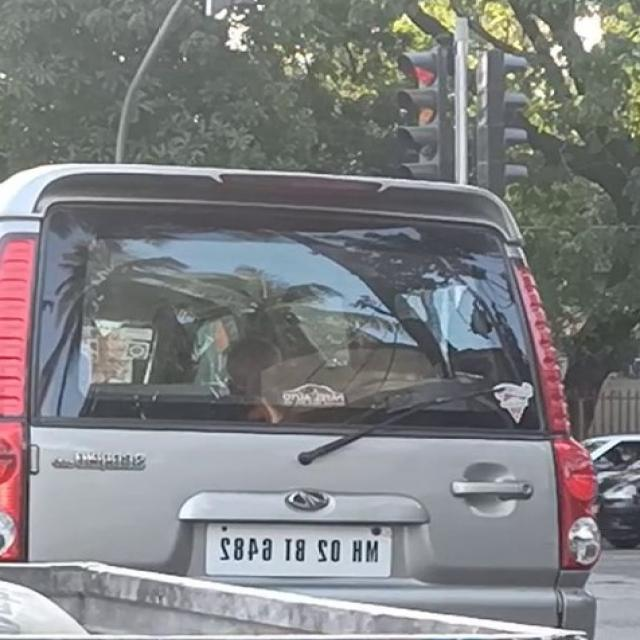license_plate: (195, 520, 398, 582)
